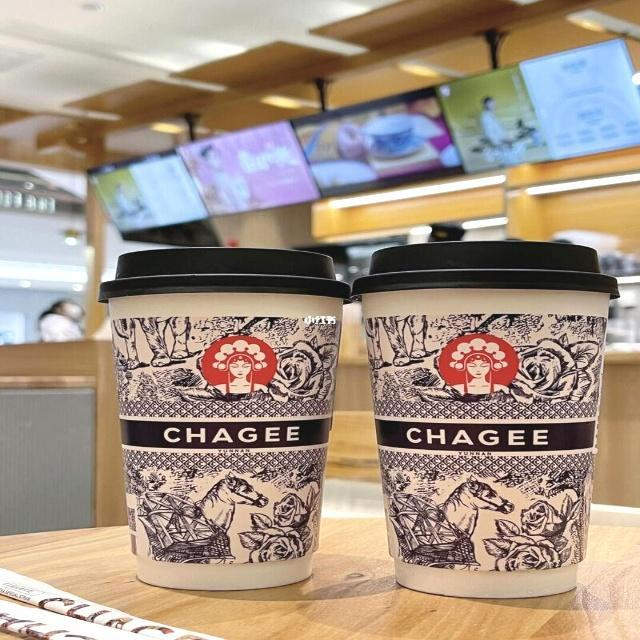paper_cup: (350, 236, 620, 598), (99, 246, 355, 592)
